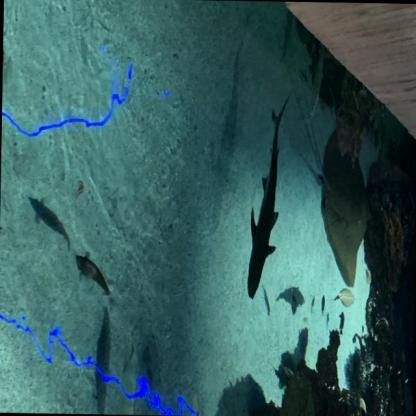fish: (26, 194, 71, 251), (74, 250, 115, 300), (336, 288, 356, 309), (260, 284, 271, 318), (289, 288, 297, 318), (2, 48, 6, 101), (338, 310, 345, 336), (320, 293, 326, 315)
shark: (246, 109, 280, 299)
stingray: (319, 123, 373, 288)
